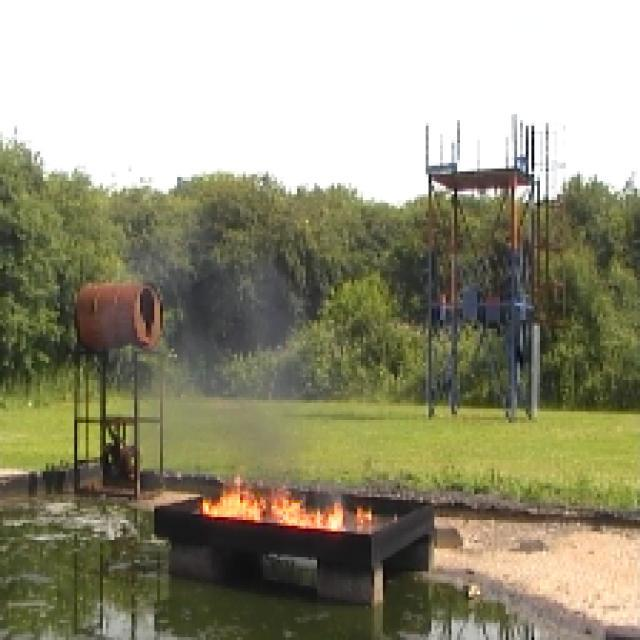Fire: (210, 474, 396, 544)
